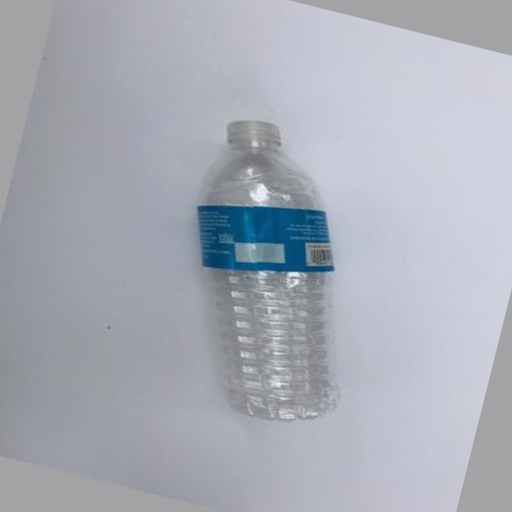Plastic_0: (192, 119, 341, 424)
